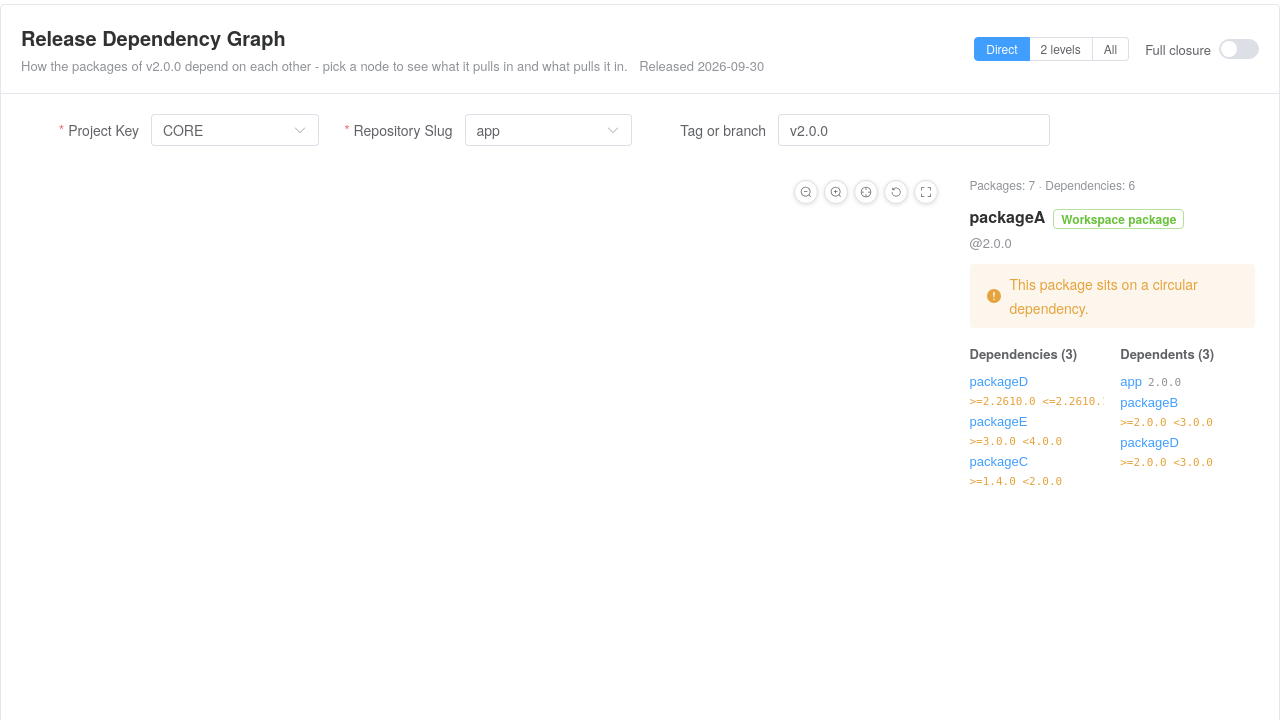
ReleaseDependencyGraphView › deepens the view when a panel dependency is off the canvas
Click the button with class "detail-link" below "Dependencies (3)".
click(999, 381)  # box [970, 374, 1028, 389]
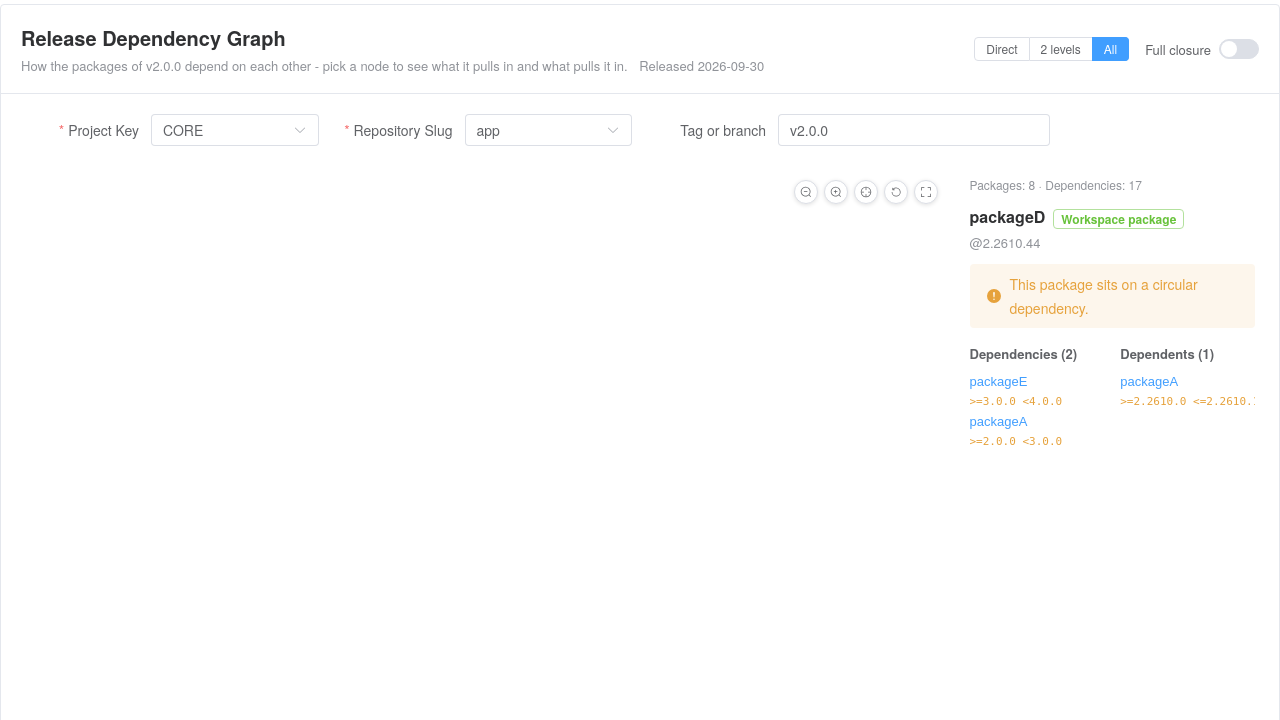
expect the element with test id "detail-panel" shows "packageD": met, box [970, 205, 1045, 228]
expect the text "Packages: 8" is shown: met, box [970, 176, 1142, 193]
